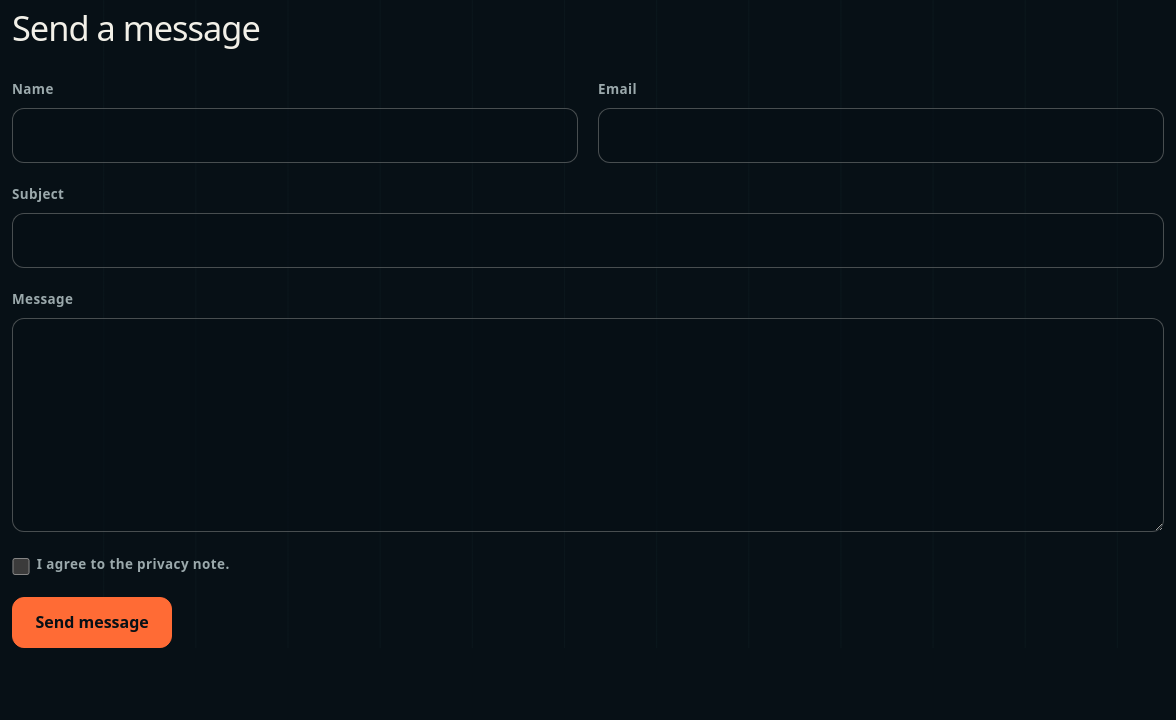
ContactForm › keeps user input and announces uncertain delivery on a network failure
The width and height of the screenshot is (1176, 720).
In the field labelled "Name": (295, 136) x1=12 y1=108 x2=578 y2=163, type "Ada Lovelace"
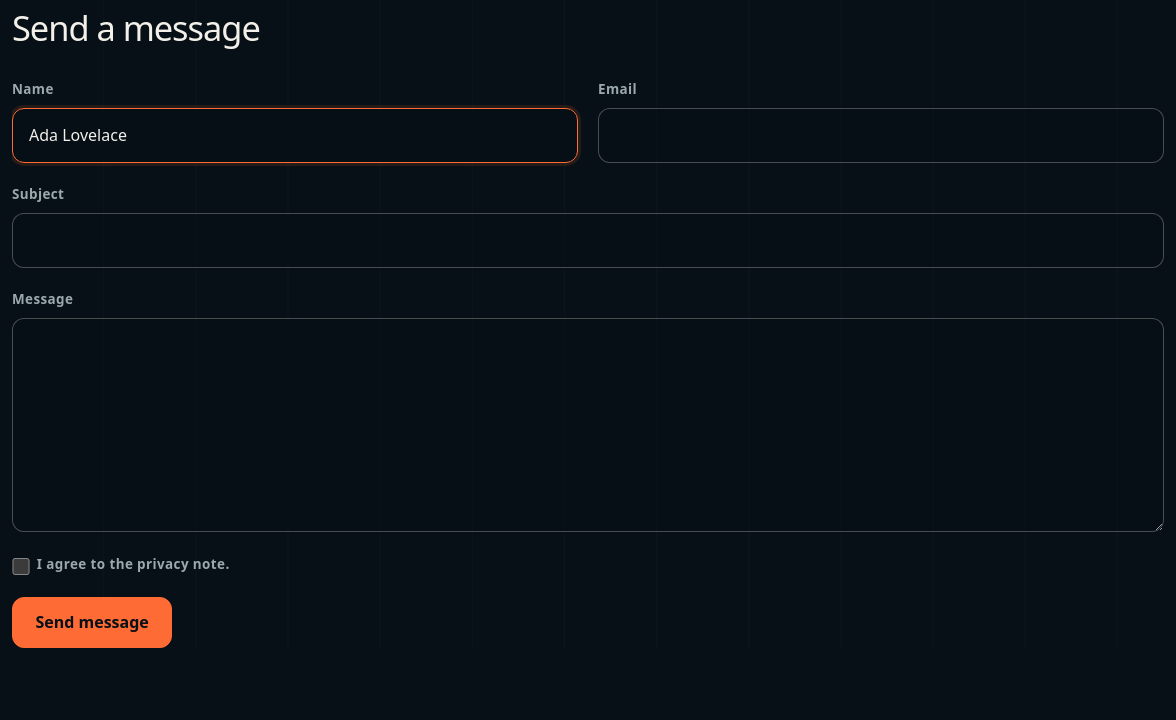
In the field labelled "Email": (881, 136) x1=598 y1=108 x2=1164 y2=163, type "ada@example.com"
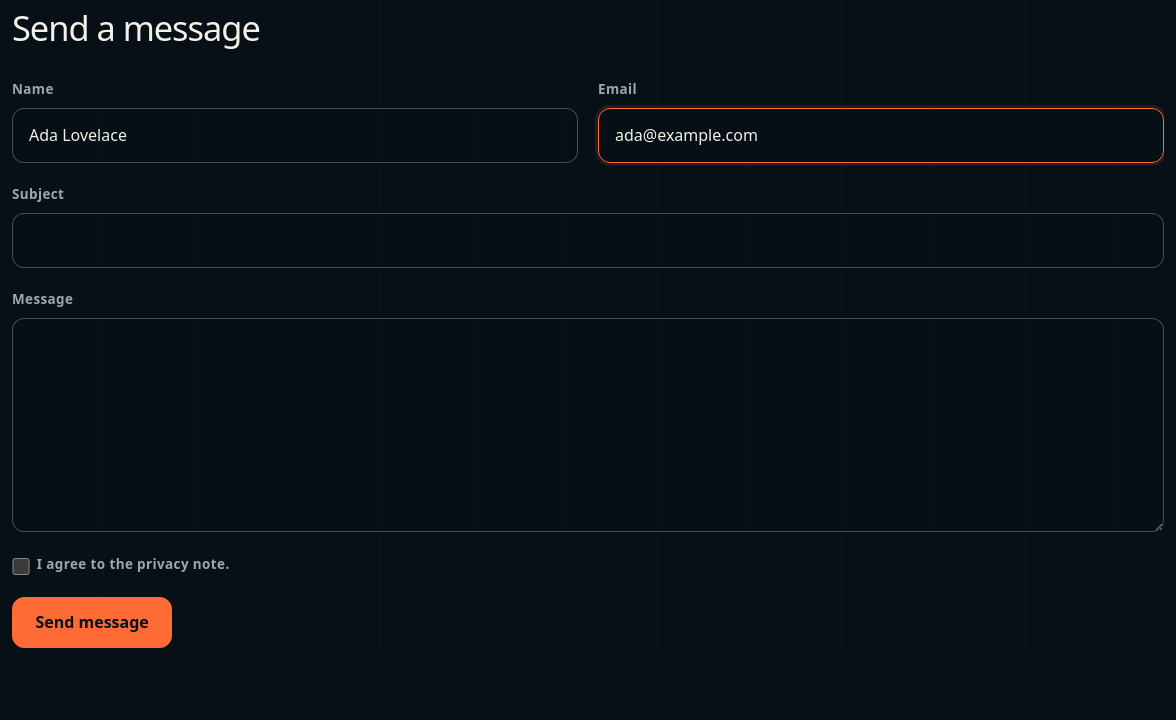
In the field labelled "Subject": (588, 240) x1=12 y1=213 x2=1164 y2=268, type "A useful project"
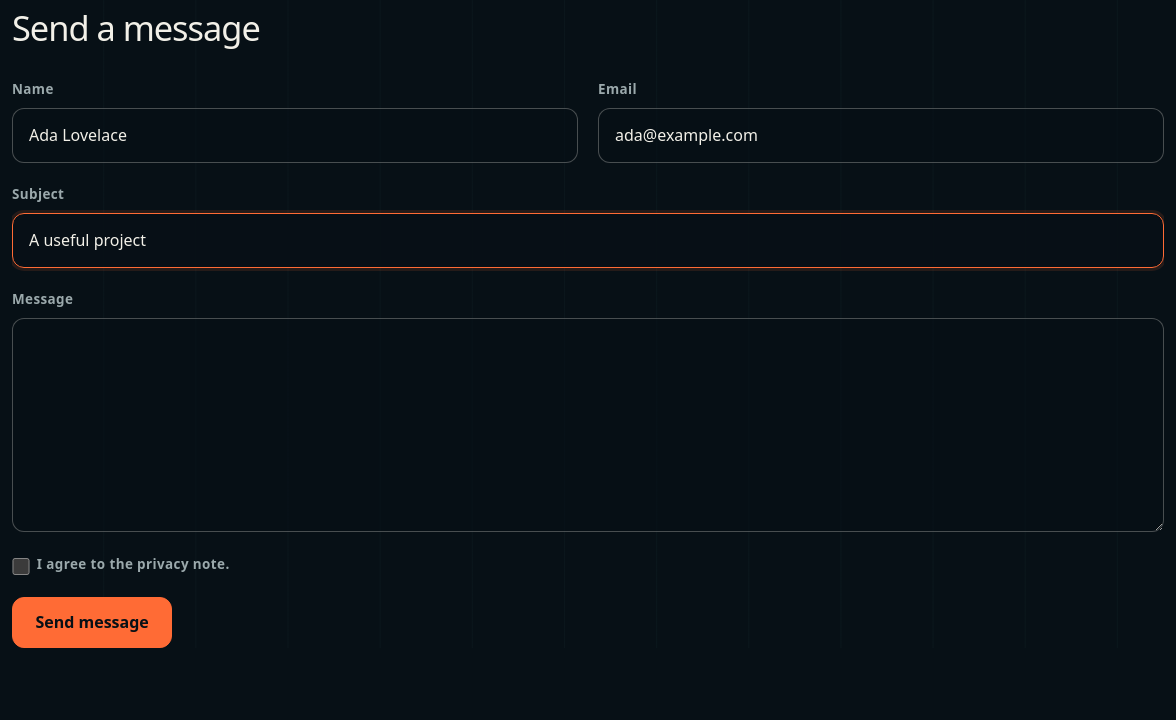
In the text box labelled "Message": (588, 425) x1=12 y1=318 x2=1164 y2=532, type "This is a detailed project message for you."
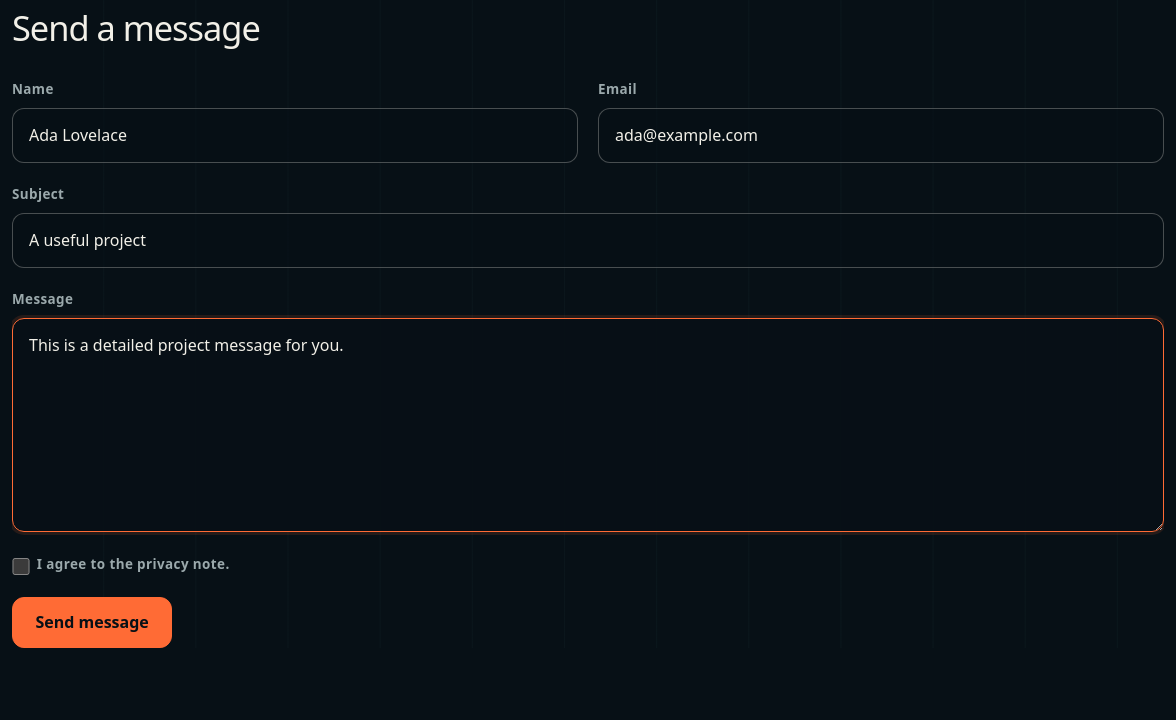
Click the checkbox labelled "I agree to the privacy note.": (21, 566) x1=12 y1=558 x2=30 y2=575
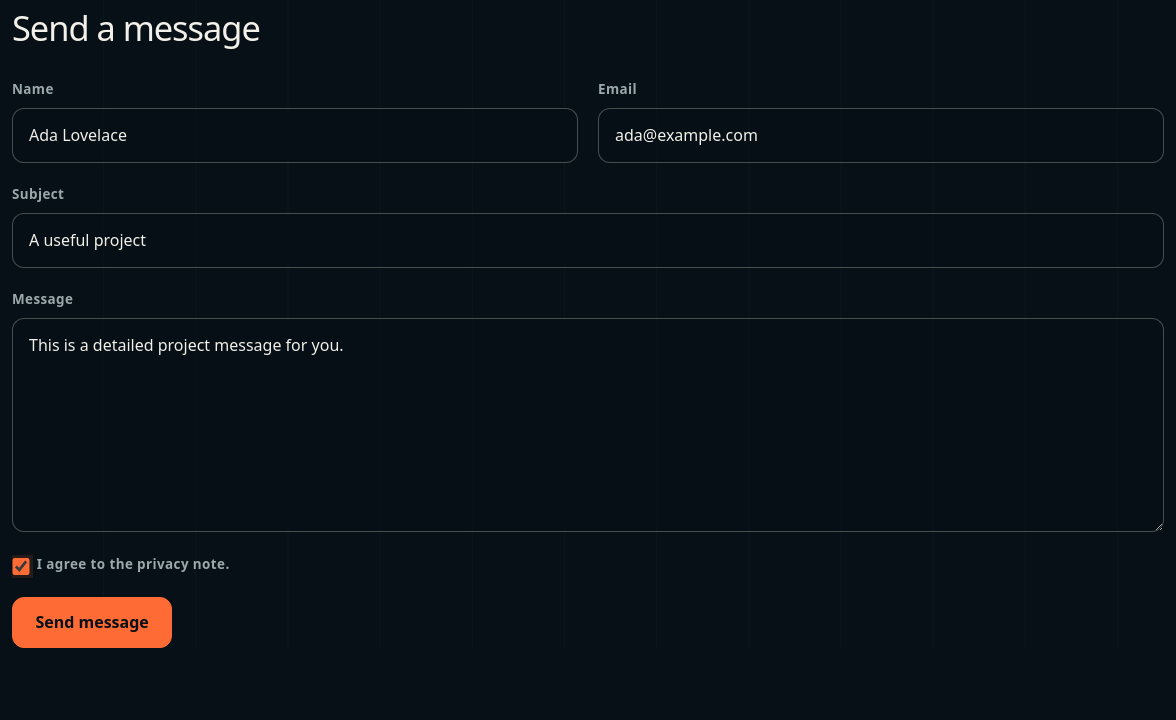
Submit the form named "Send message"
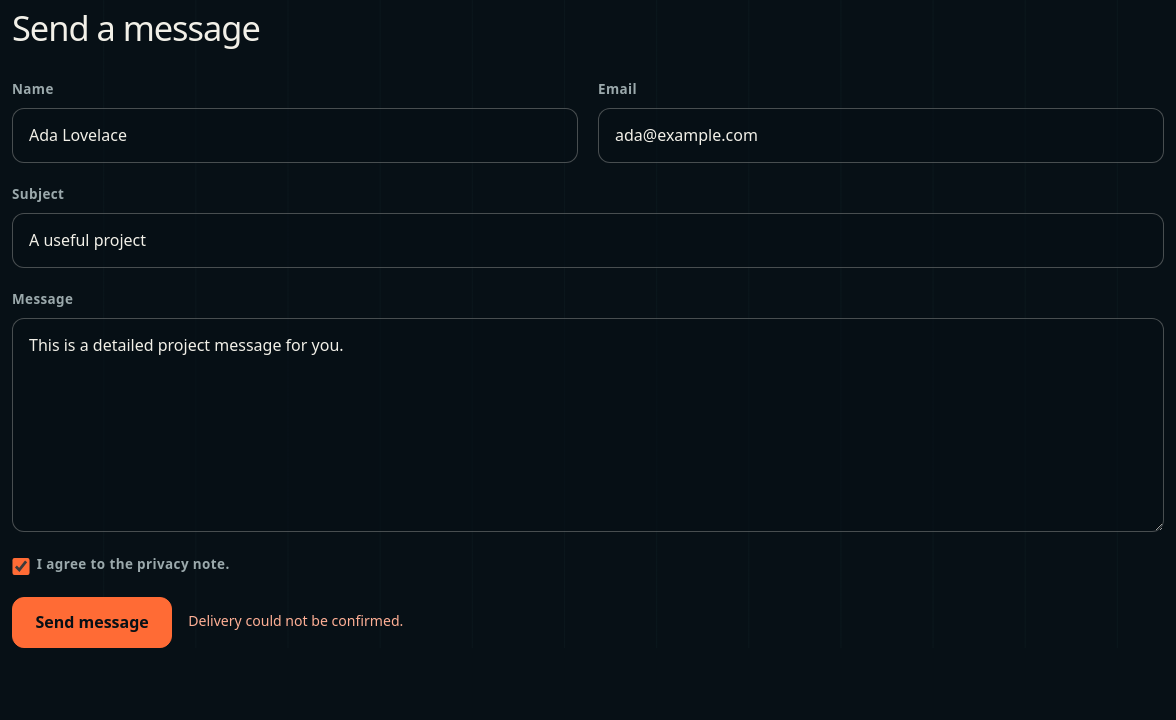
Expected: the message reads "Delivery could not be confirmed.", x1=188 y1=611 x2=403 y2=630
